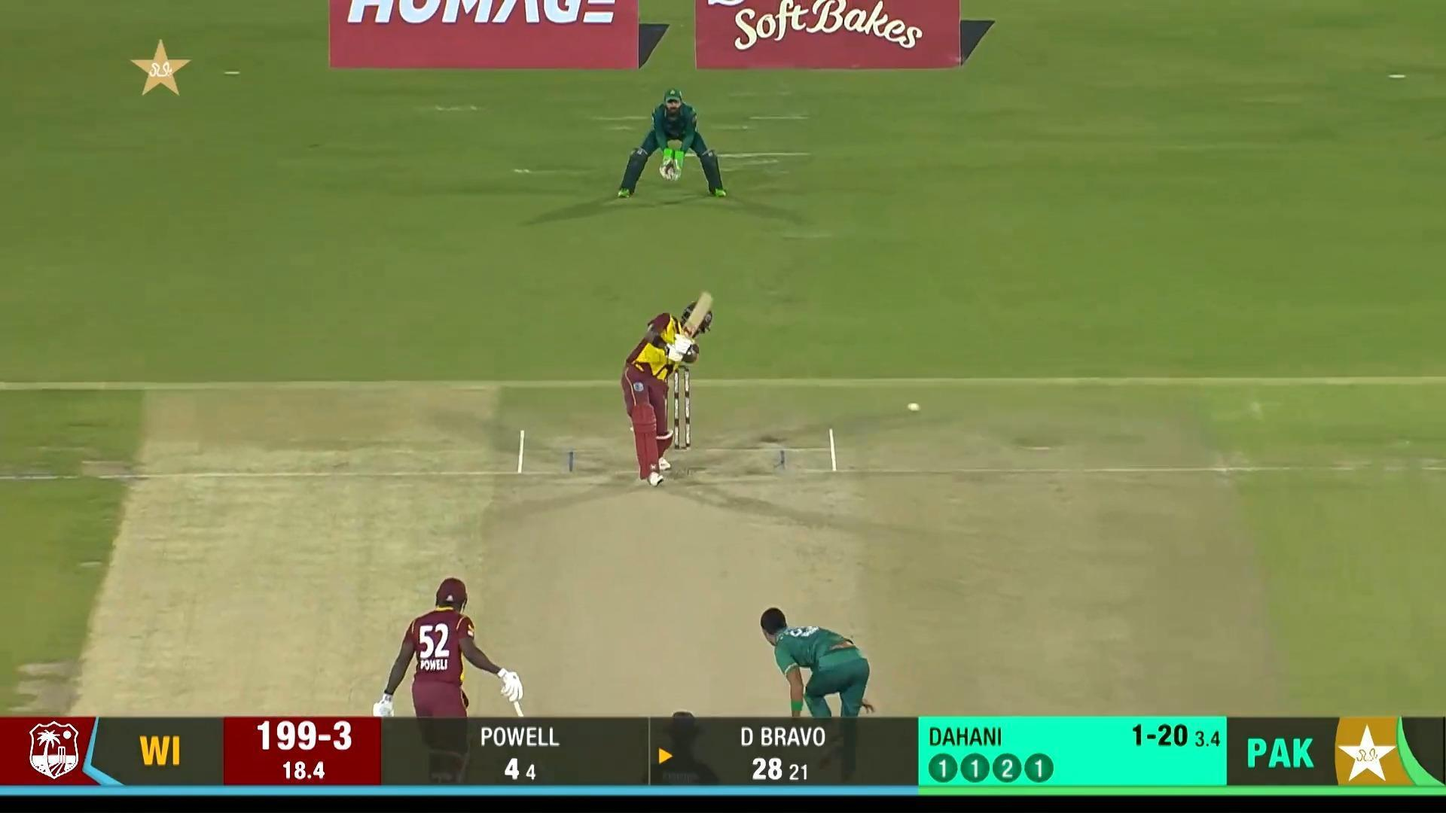BM 1: (621, 290, 715, 486)
BO: (758, 605, 876, 718)
